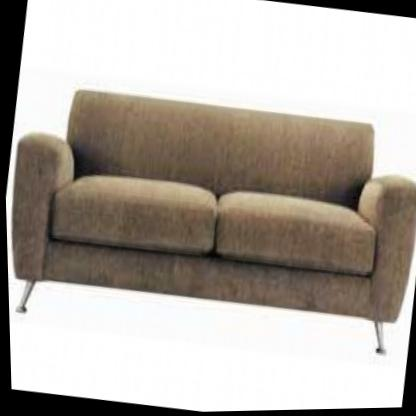Sofa: (2, 71, 416, 368)
